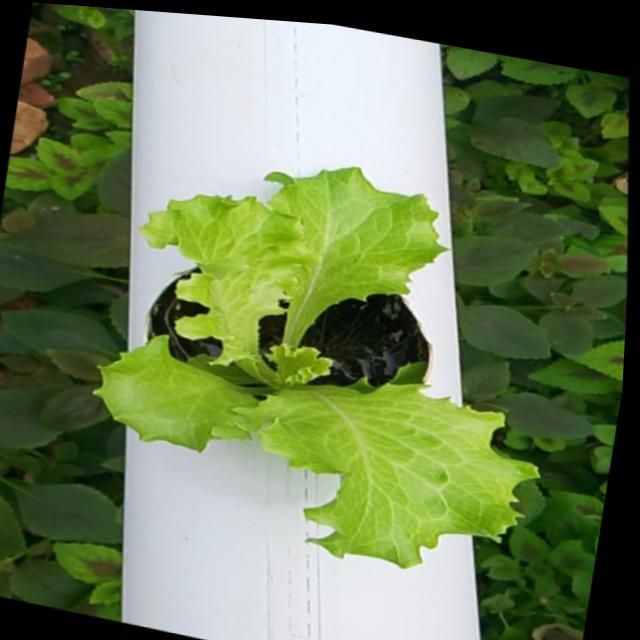Baby: (74, 166, 516, 563)
